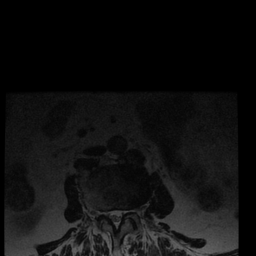CCS_normal: (113, 204, 118, 236)
LFS_severe_stenosis: (124, 202, 132, 220)
LLS_stenosis: (118, 202, 124, 225)
RFS_severe_stenosis: (100, 201, 106, 222)
RLS_normal: (106, 203, 112, 225)
